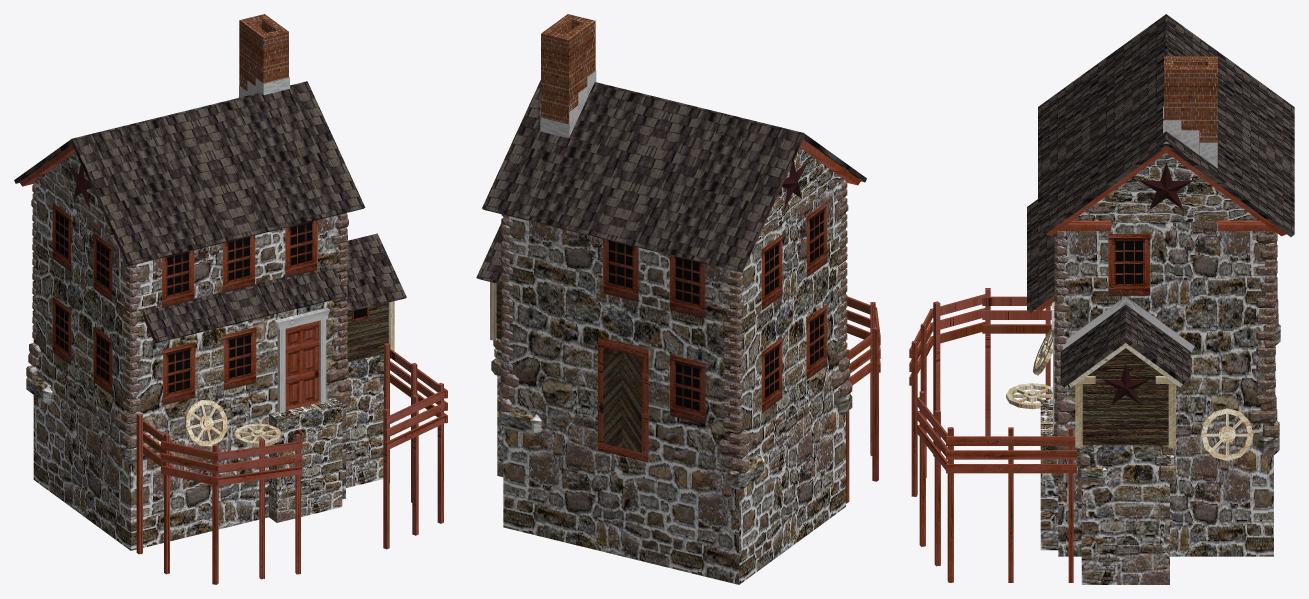
The model's file is union_house_1.dae.
3 views of the same model, side by side, from view 1: azimuth 30°, elevation 25°; view 2: azimuth 150°, elevation 25°; view 3: azimuth 270°, elevation 25° (orthographic). The views are drawn at different scales.
Visible parts, largest first — view 1: USAHouse1; view 2: USAHouse1; view 3: USAHouse1.
Boxes of the visible parts, x1=… form: USAHouse1: x1=14, y1=14, x2=447, y2=584; USAHouse1: x1=476, y1=14, x2=880, y2=584; USAHouse1: x1=909, y1=14, x2=1294, y2=584.
Size of the model in its own units: 16.06 by 16.8 by 23.17.
